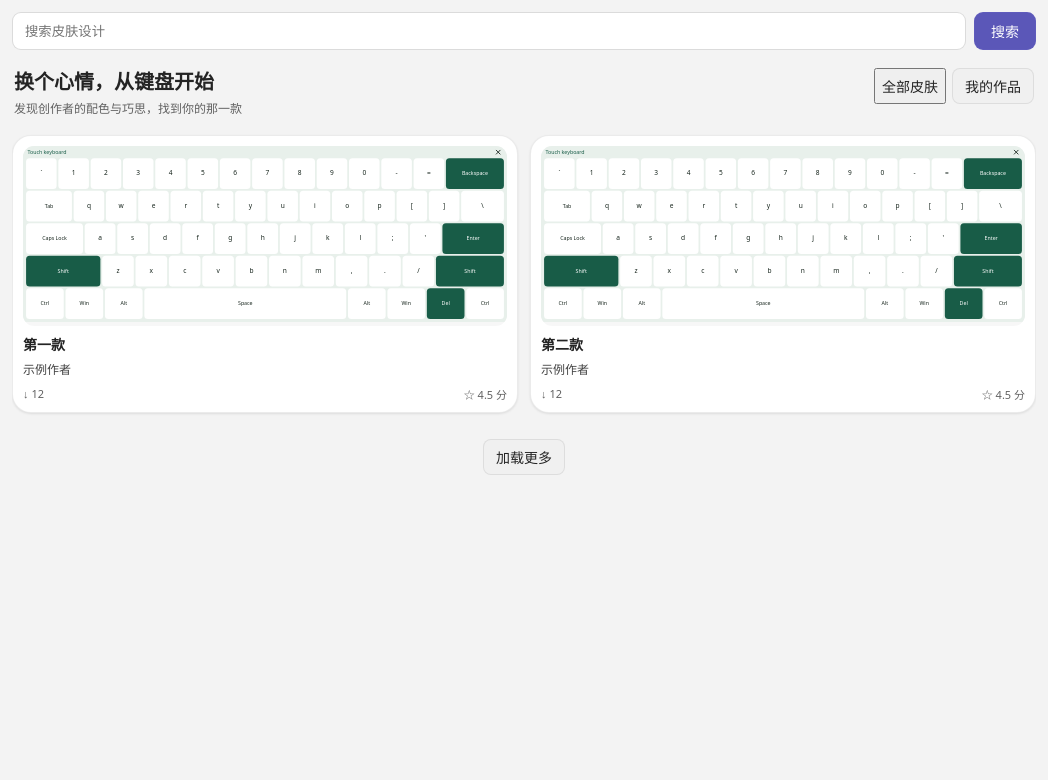
Test: load more advances the transport offset and removes duplicate ids
The image size is (1048, 780).
Click the button "加载更多" at {"x": 524, "y": 457}, box [483, 439, 565, 475]
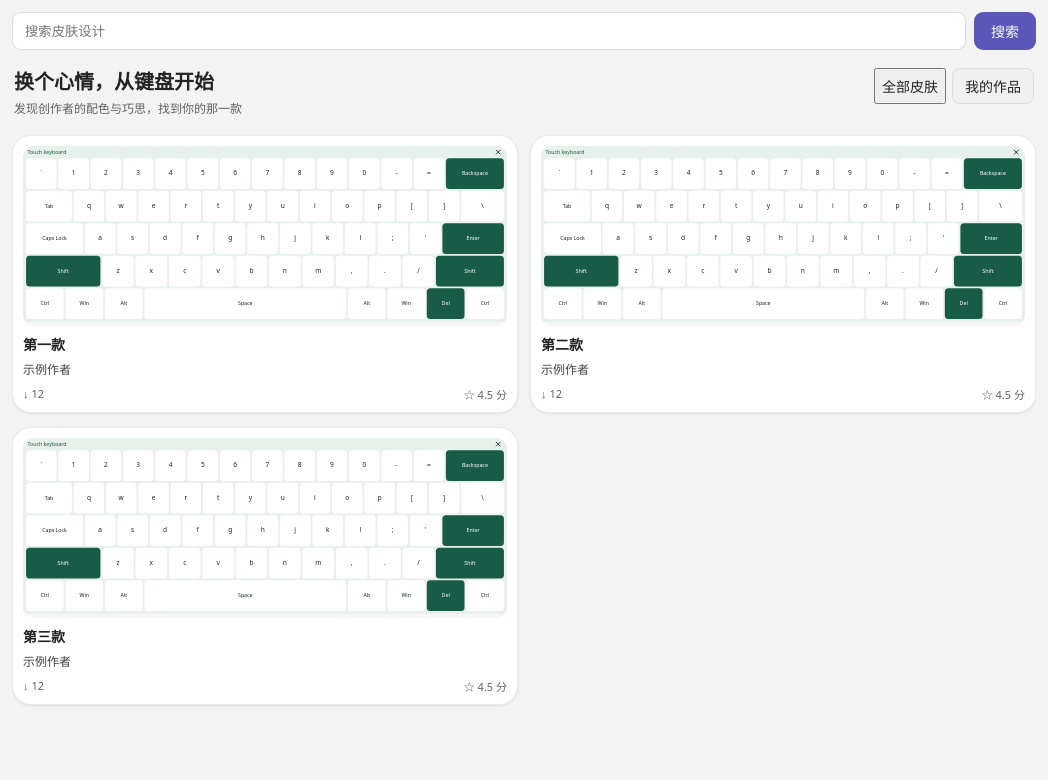
Check: the button with aria-label "查看皮肤 第三款" is shown, box [12, 427, 518, 705]
Check: the number of buttons named "查看皮肤" is 3, box [12, 135, 518, 413]; [530, 135, 1036, 413]; [12, 427, 518, 705]
